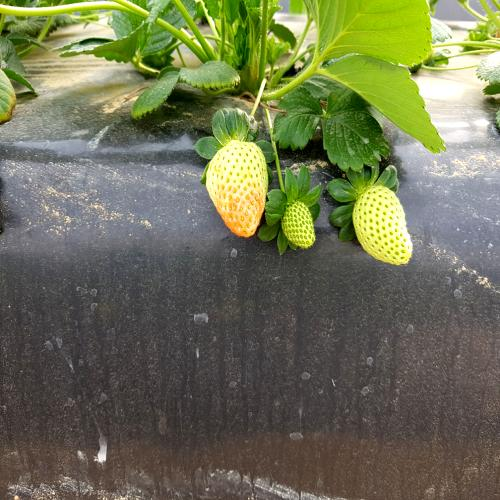unripe: (200, 138, 269, 236), (355, 182, 421, 272), (280, 189, 322, 254)
